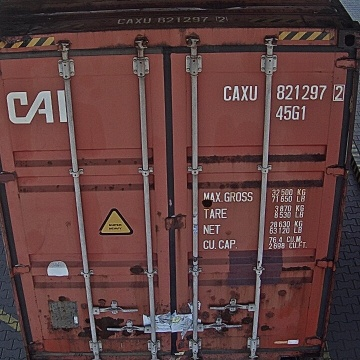serial_id: (224, 84, 344, 100)
